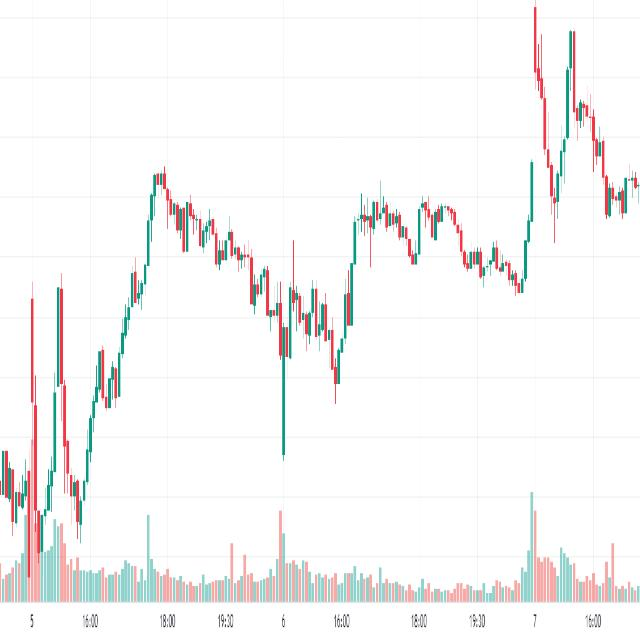Double-Bottom: (28, 270, 106, 563)
Falling-Wedge: (319, 108, 554, 299)
